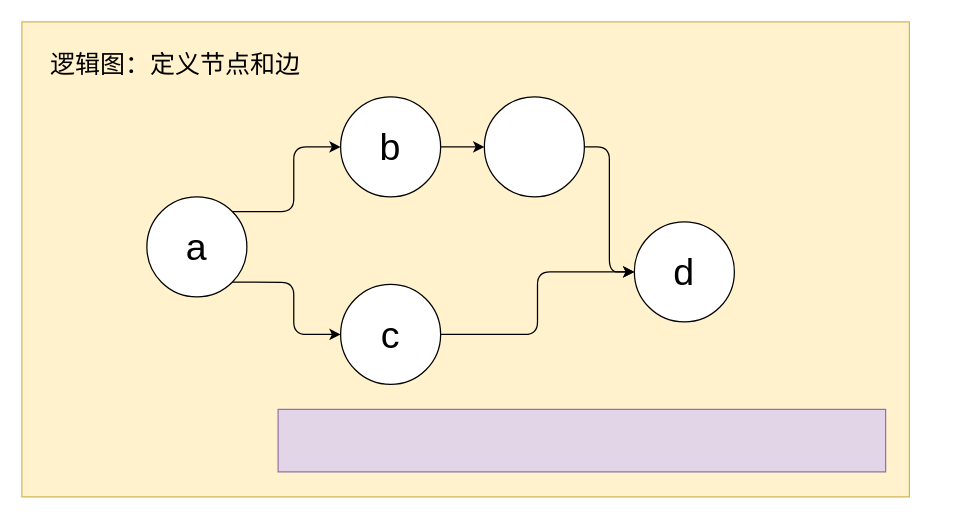
The diagram is 963 pixels wide and 519 high, and some of its shapes have lost their labels. The shapes that lost their labels are listed below. From the top down, each one's centre as x and y in pixels, then its label:
(533,146): b_2
(581,440): class State(TypedDict): aggregate: Annotated[ list , operator.add]
